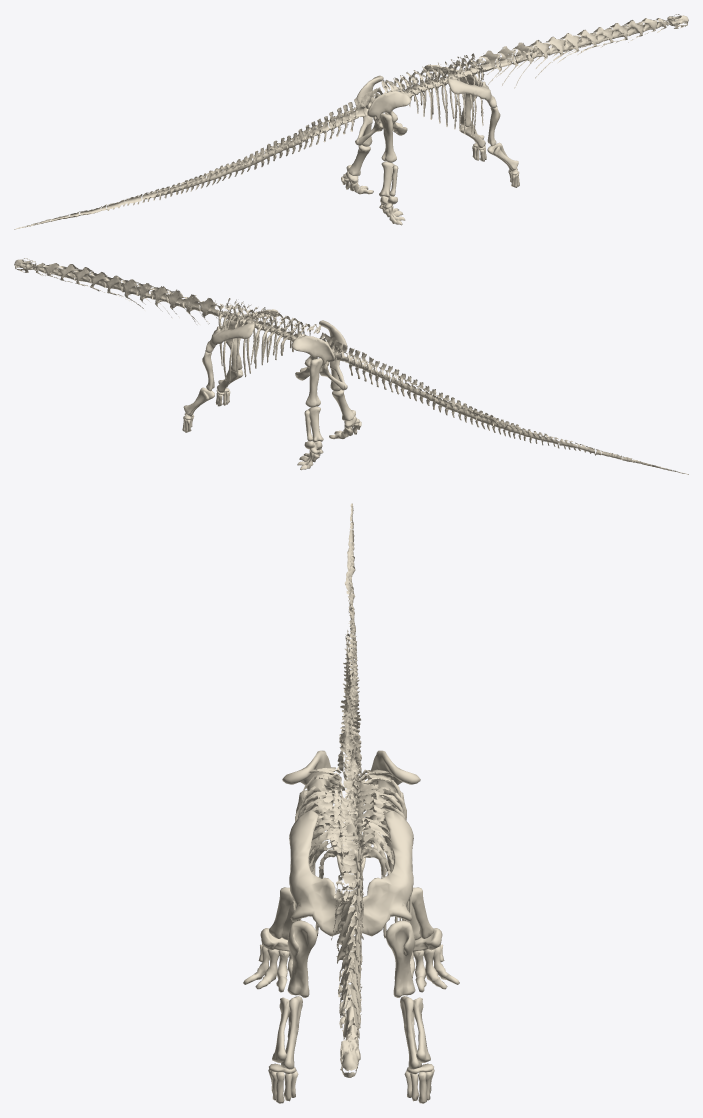
The model's file is argentinosaurus-skeleton.glb.
3 renders of one model, top to bottom at view 1: azimuth 30°, elevation 25°; view 2: azimuth 150°, elevation 25°; view 3: azimuth 270°, elevation 25°, orthographic. The views are drawn at different scales.
Parts seen in each view (by area): view 1: Skeleton; view 2: Skeleton; view 3: Skeleton.
Part boxes in pixels (<box>): Skeleton: <box>14,14,688,229</box>; Skeleton: <box>14,258,688,474</box>; Skeleton: <box>243,503,459,1103</box>.
Bounding box in the file's own units: 39.76 × 7.26 × 5.55.
